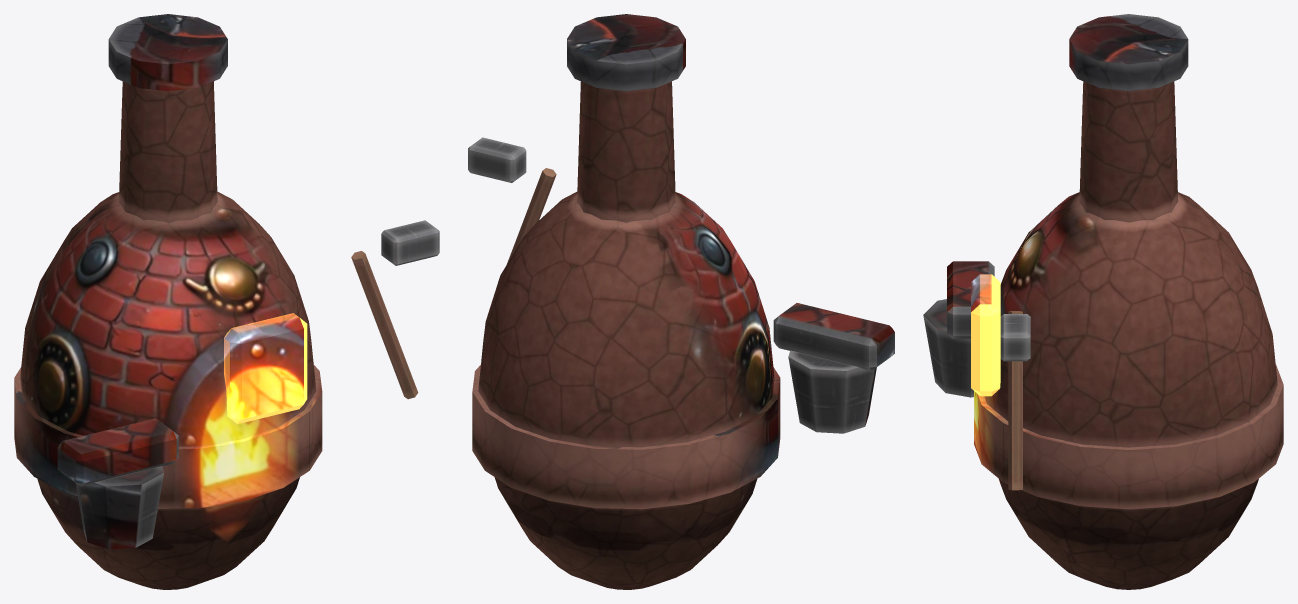
File: furnace.glb
3 views of the same model, side by side, from view 1: azimuth 30°, elevation 25°; view 2: azimuth 150°, elevation 25°; view 3: azimuth 270°, elevation 25° (orthographic).
Parts seen in each view (by area): view 1: furnace; view 2: furnace; view 3: furnace.
Boxes of the visible parts, <box> form: furnace: <box>14,14,439,589</box>; furnace: <box>468,14,894,589</box>; furnace: <box>923,14,1283,589</box>.
Size of the model in its own units: 1.51 by 2 by 1.21.
1 material, 1 textured.
